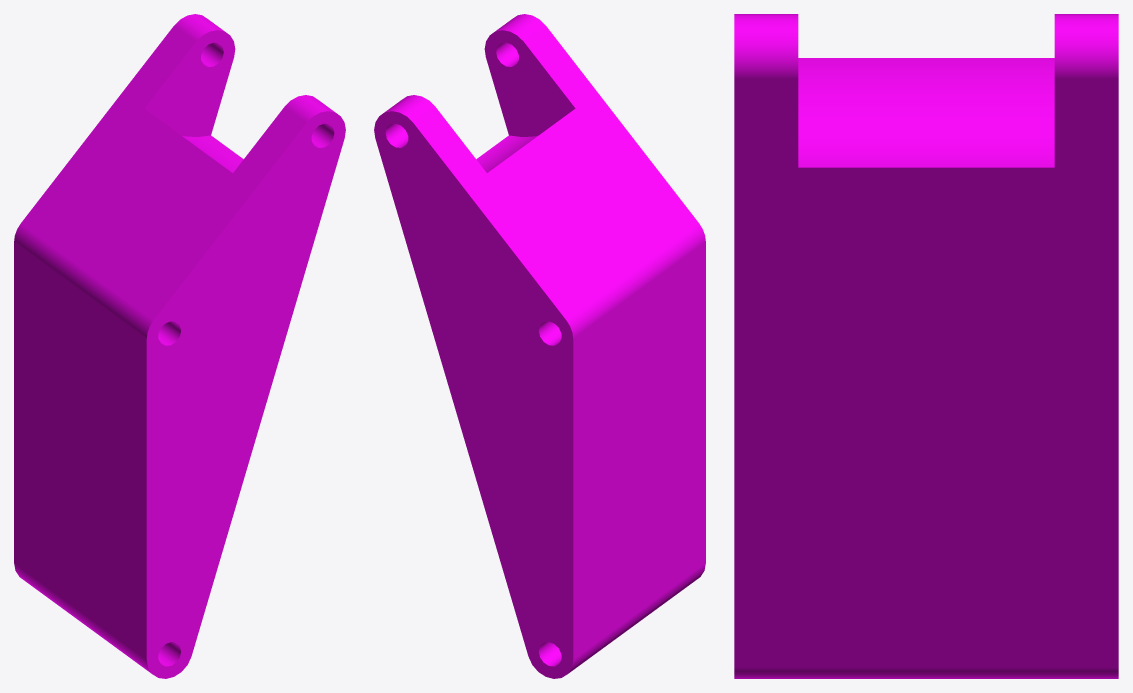
The picture shows the model from 3 angles, left to right: view 1: azimuth 30°, elevation 25°; view 2: azimuth 150°, elevation 25°; view 3: azimuth 270°, elevation 25°; orthographic projection. The views are drawn at different scales.
Parts seen in each view (by area): view 1: LP; view 2: LP; view 3: LP.
Part boxes in pixels (x1,y1,x2,y2): LP: [14, 14, 345, 678]; LP: [374, 14, 705, 678]; LP: [734, 14, 1118, 678].
Bounding box in the file's own units: 0.026 × 0.0659 × 0.03.
